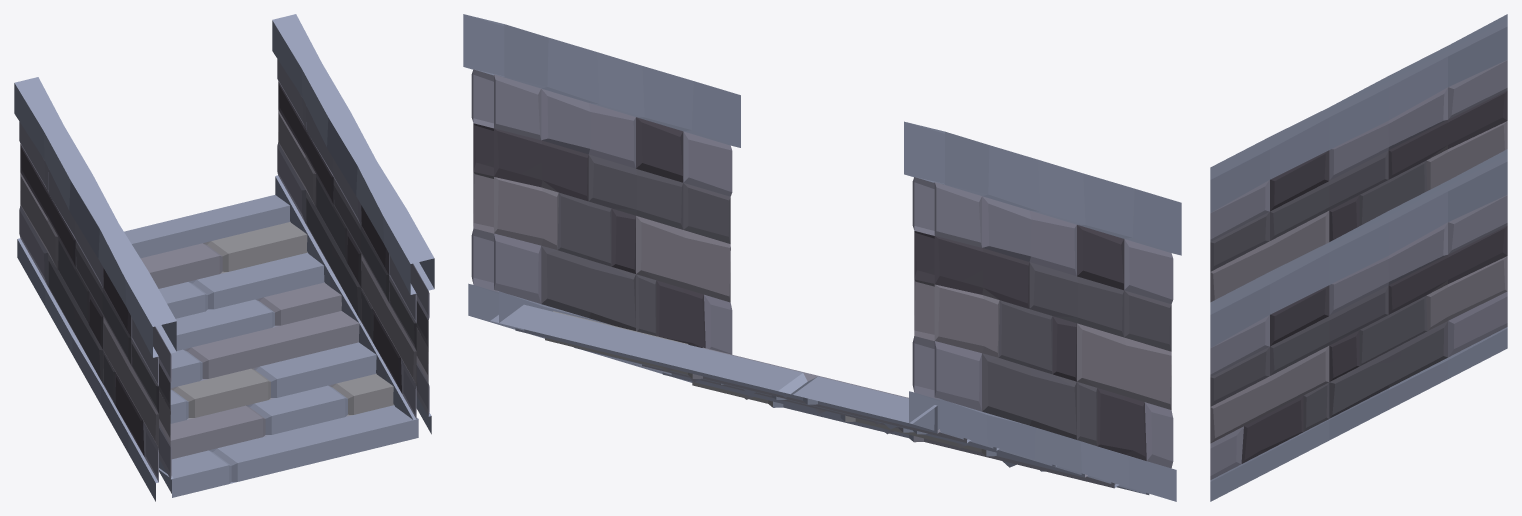
Rendered from stairs_big.fbx.
3 renders of one model, left to right at view 1: azimuth 30°, elevation 25°; view 2: azimuth 150°, elevation 25°; view 3: azimuth 270°, elevation 25°, orthographic. The views are drawn at different scales.
Visible parts, largest first — view 1: stairs_big; view 2: stairs_big; view 3: stairs_big.
Boxes of the visible parts, bbox=[...] form: stairs_big: bbox=[14, 14, 434, 501]; stairs_big: bbox=[463, 14, 1181, 501]; stairs_big: bbox=[1210, 14, 1507, 501].
Size of the model in its own units: 708 by 762 by 600.
